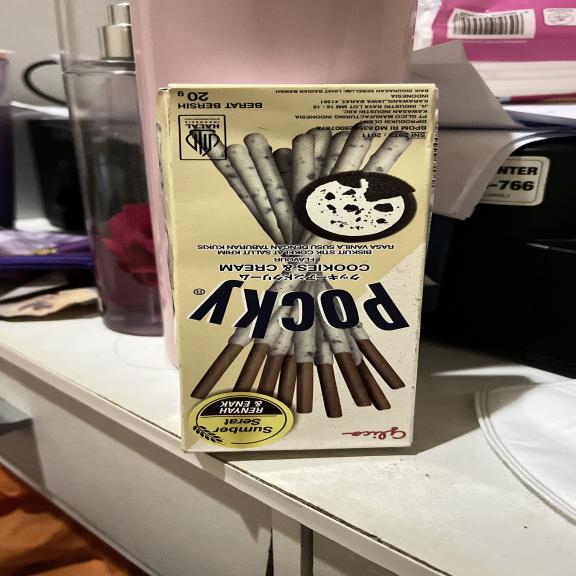Kertas: (160, 83, 437, 453)
